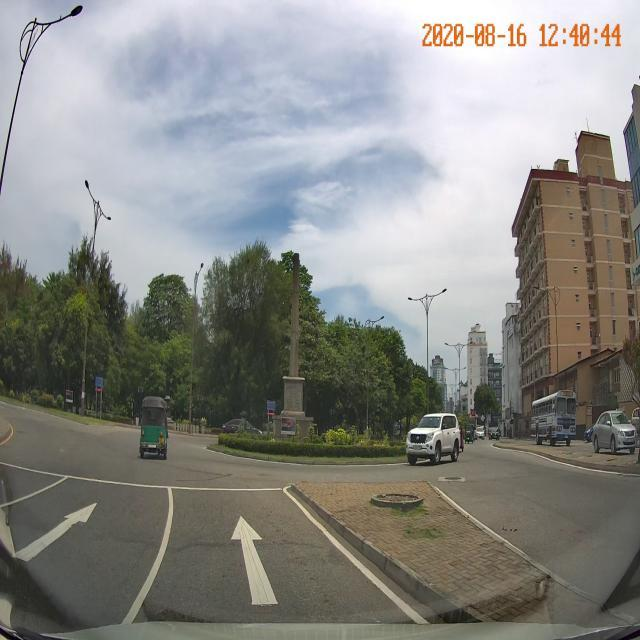forward: (120, 500, 437, 627)
